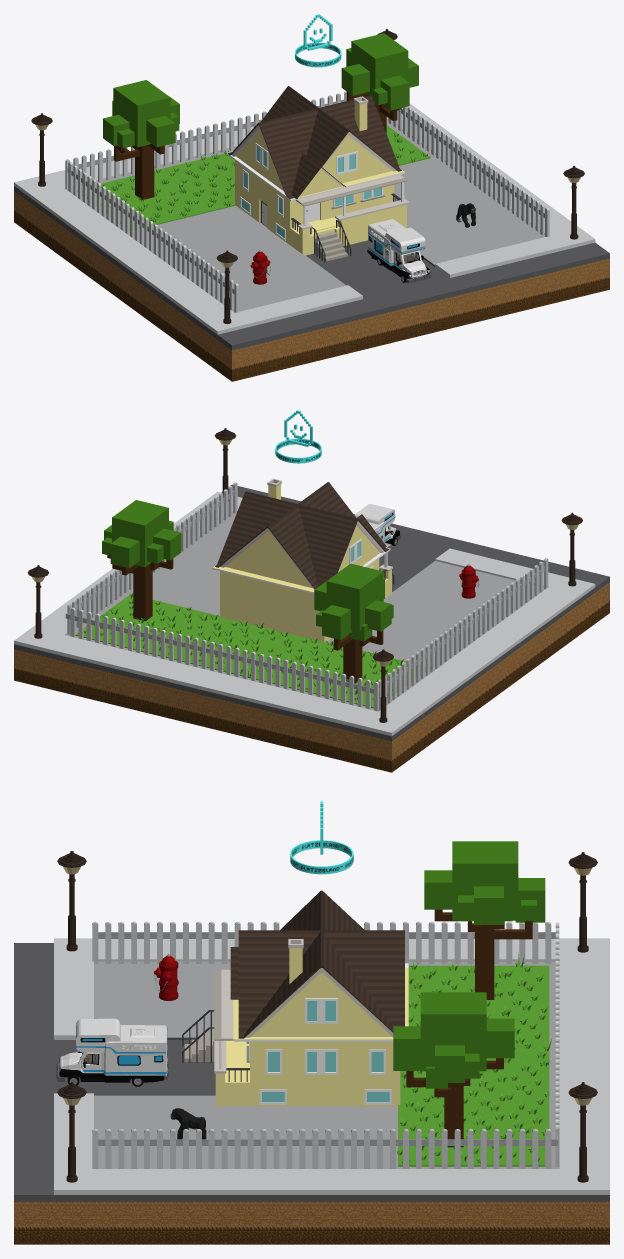
3 views of the same model, one above another, from view 1: azimuth 30°, elevation 25°; view 2: azimuth 150°, elevation 25°; view 3: azimuth 270°, elevation 25° (orthographic). The views are drawn at different scales.
Visible parts, largest first — view 1: Cube.004, Cube.1555, VEHICLES_CAMPER, TYPE_PREMIUM, OBJRANDOM_FIRE_HYDRANT; view 2: Cube.004, Cube.1555, VEHICLES_CAMPER, TYPE_PREMIUM, OBJRANDOM_FIRE_HYDRANT; view 3: Cube.004, Cube.1555, VEHICLES_CAMPER, TYPE_PREMIUM, OBJRANDOM_FIRE_HYDRANT, ANIMAL_GORILA.
Part boxes in pixels (x1=…): Cube.004: x1=14, y1=29, x2=609, y2=381; Cube.1555: x1=226, y1=86, x2=409, y2=262; VEHICLES_CAMPER: x1=367, y1=219, x2=431, y2=283; TYPE_PREMIUM: x1=295, y1=14, x2=341, y2=67; OBJRANDOM_FIRE_HYDRANT: x1=250, y1=250, x2=270, y2=284; Cube.004: x1=14, y1=428, x2=609, y2=772; Cube.1555: x1=212, y1=478, x2=394, y2=641; VEHICLES_CAMPER: x1=355, y1=504, x2=401, y2=545; TYPE_PREMIUM: x1=275, y1=410, x2=321, y2=463; OBJRANDOM_FIRE_HYDRANT: x1=459, y1=564, x2=479, y2=598; Cube.004: x1=14, y1=841, x2=609, y2=1244; Cube.1555: x1=182, y1=890, x2=408, y2=1106; VEHICLES_CAMPER: x1=56, y1=1018, x2=168, y2=1086; TYPE_PREMIUM: x1=290, y1=801, x2=353, y2=874; OBJRANDOM_FIRE_HYDRANT: x1=154, y1=954, x2=178, y2=1000; ANIMAL_GORILA: x1=170, y1=1108, x2=206, y2=1139.
Size of the model in its own units: 4000 by 2417 by 4000.
36 materials, 5 textured.
